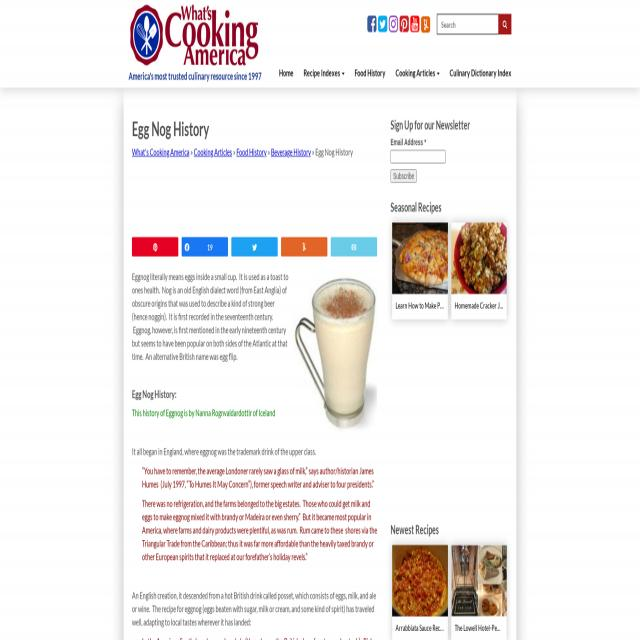button: (293, 270, 377, 433), (124, 5, 270, 65), (451, 223, 507, 294), (392, 545, 448, 616), (451, 545, 507, 616), (392, 223, 447, 294), (444, 36, 516, 88), (390, 36, 444, 88), (298, 36, 349, 88), (350, 36, 390, 88), (274, 36, 298, 88), (131, 236, 179, 256), (182, 238, 228, 255), (281, 238, 327, 255), (331, 238, 377, 255), (232, 238, 277, 255), (391, 169, 416, 183), (498, 14, 512, 35), (378, 16, 389, 32), (368, 16, 378, 32), (389, 16, 399, 32), (400, 16, 410, 32), (411, 16, 421, 32), (421, 16, 430, 32)
field: (437, 14, 498, 35), (390, 150, 446, 163)
